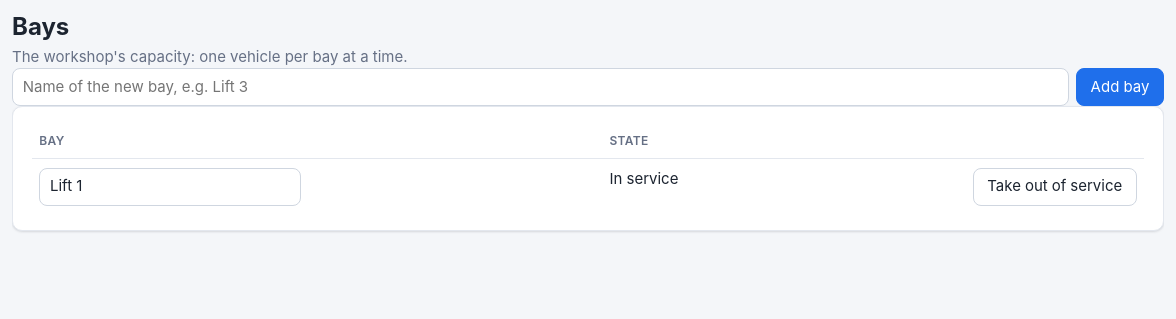
Test case: BaysPage › shows the bay as it is now when a colleague changed it in the meantime
The width and height of the screenshot is (1176, 319).
Click the button "Take out of service": [1055, 186] box [973,168,1137,206]
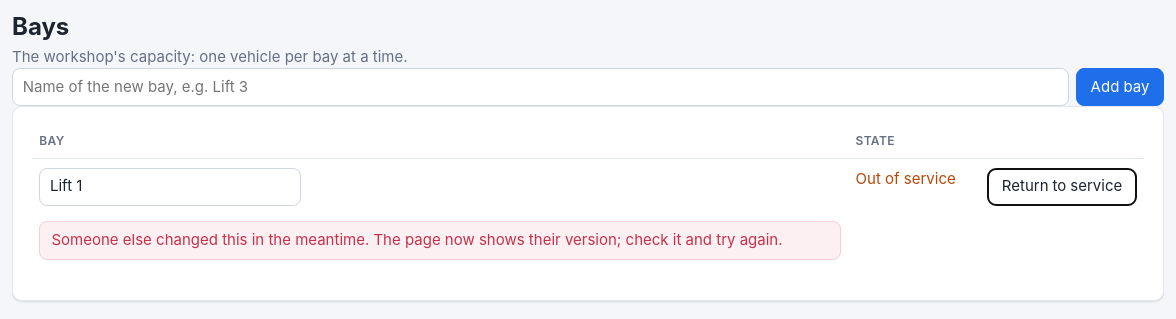
Check: the text "Out of service" is shown, box [856,168,956,188]
Check: the message shows "Someone else changed this in the meantime.", box [52,230,782,249]
Check: the button "Return to service" is shown, box [987,168,1137,206]
